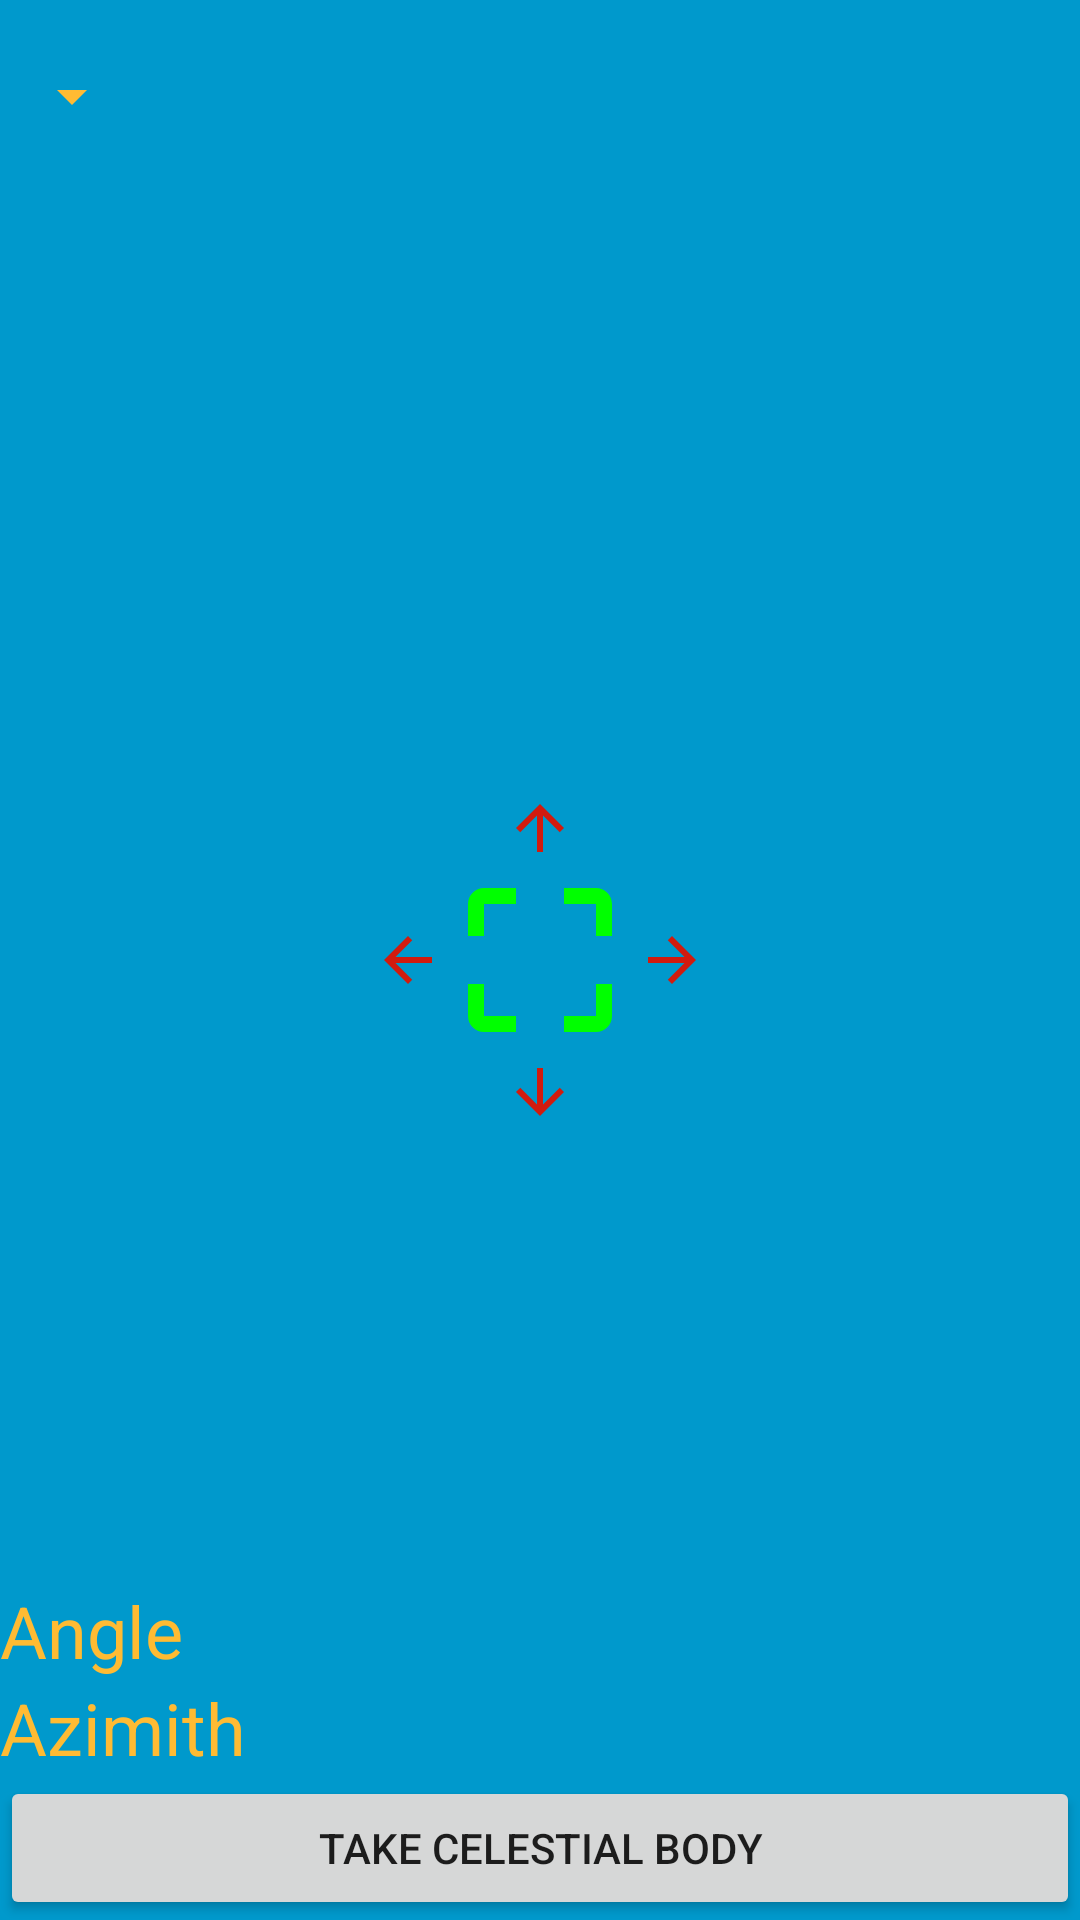

Screen size 1080px x 1920px. Icon name, then its center in pixels as (x,y):
arrow down: (540,1092)
arrow left: (408,960)
arrow right: (672,960)
arrow up: (540,828)
finder: (540,960)
